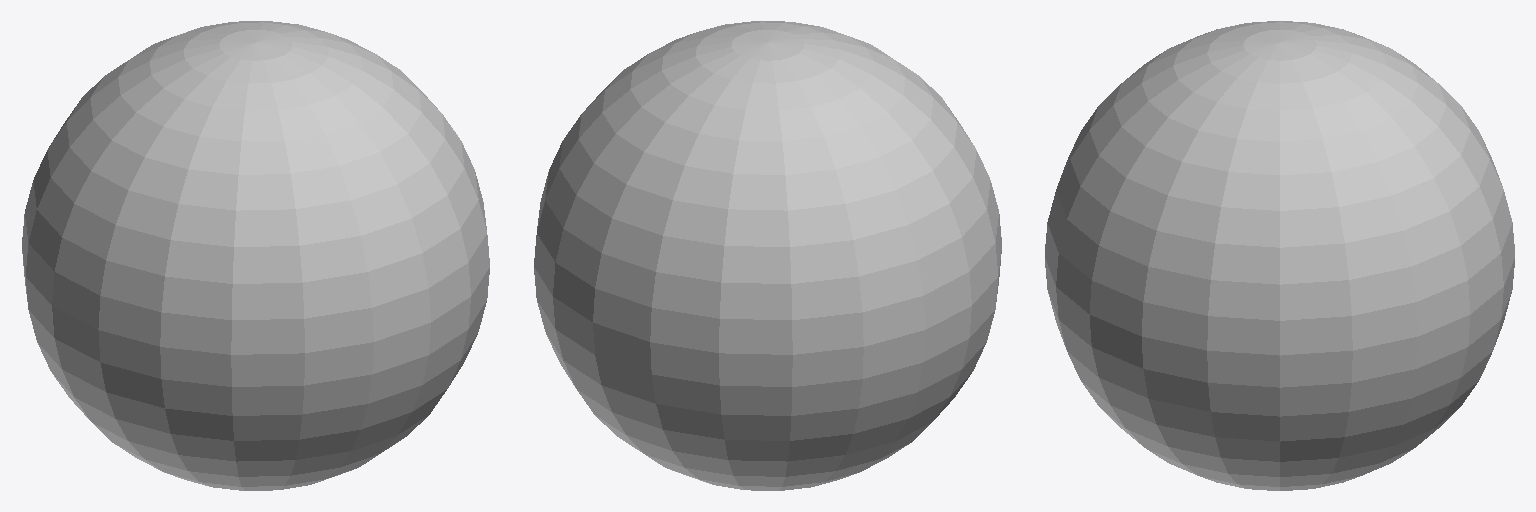
File: bulletskin.obj
3 renders of one model, left to right at view 1: azimuth 30°, elevation 25°; view 2: azimuth 150°, elevation 25°; view 3: azimuth 270°, elevation 25°, orthographic.
Visible parts, largest first — view 1: pSphere1; view 2: pSphere1; view 3: pSphere1.
Boxes of the visible parts, box(x1,y1,x2,y2) form: pSphere1: box(22, 21, 489, 490); pSphere1: box(534, 21, 1001, 490); pSphere1: box(1045, 21, 1514, 490).
Bounding box in the file's own units: 0.2226 × 0.2226 × 0.2226.